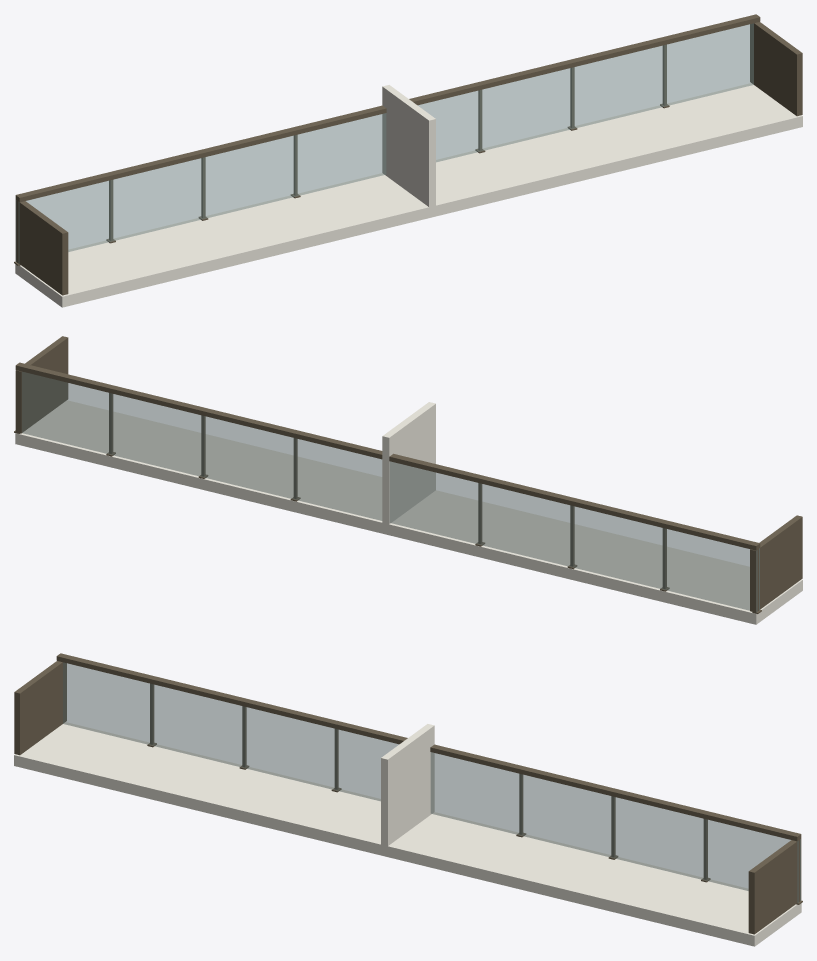
Rendered from module_balcony_pair.glb.
3 renders of one model, top to bottom at view 1: azimuth 30°, elevation 25°; view 2: azimuth 150°, elevation 25°; view 3: azimuth 330°, elevation 25°, orthographic.
Visible parts, largest first — view 1: balcony-glass-guards, balcony-sunshade-ledges, balcony-rail-ends, balcony-rail-top, paired-balcony-privacy-panels, balcony-rail-posts; view 2: balcony-glass-guards, balcony-sunshade-ledges, balcony-rail-ends, balcony-rail-top, paired-balcony-privacy-panels, balcony-rail-posts; view 3: balcony-glass-guards, balcony-sunshade-ledges, balcony-rail-ends, balcony-rail-top, paired-balcony-privacy-panels, balcony-rail-posts.
Boxes of the visible parts, left/top/right/bottom form: balcony-glass-guards: left=16, top=23, right=753, bottom=263; balcony-sunshade-ledges: left=15, top=83, right=802, bottom=307; balcony-rail-ends: left=15, top=22, right=802, bottom=295; balcony-rail-top: left=15, top=14, right=760, bottom=202; paired-balcony-privacy-panels: left=382, top=85, right=435, bottom=210; balcony-rail-posts: left=17, top=44, right=666, bottom=263; balcony-glass-guards: left=22, top=371, right=759, bottom=611; balcony-sunshade-ledges: left=15, top=400, right=802, bottom=624; balcony-rail-ends: left=15, top=336, right=802, bottom=612; balcony-rail-top: left=15, top=362, right=760, bottom=550; paired-balcony-privacy-panels: left=382, top=402, right=435, bottom=527; balcony-rail-posts: left=109, top=393, right=758, bottom=611; balcony-glass-guards: left=63, top=662, right=800, bottom=902; balcony-sunshade-ledges: left=14, top=722, right=801, bottom=946; balcony-rail-ends: left=14, top=661, right=801, bottom=934; balcony-rail-top: left=56, top=653, right=801, bottom=841; paired-balcony-privacy-panels: left=381, top=724, right=434, bottom=846; balcony-rail-posts: left=150, top=683, right=799, bottom=902.
Bounding box in the file's own units: 12.86 × 1.61 × 1.4.
